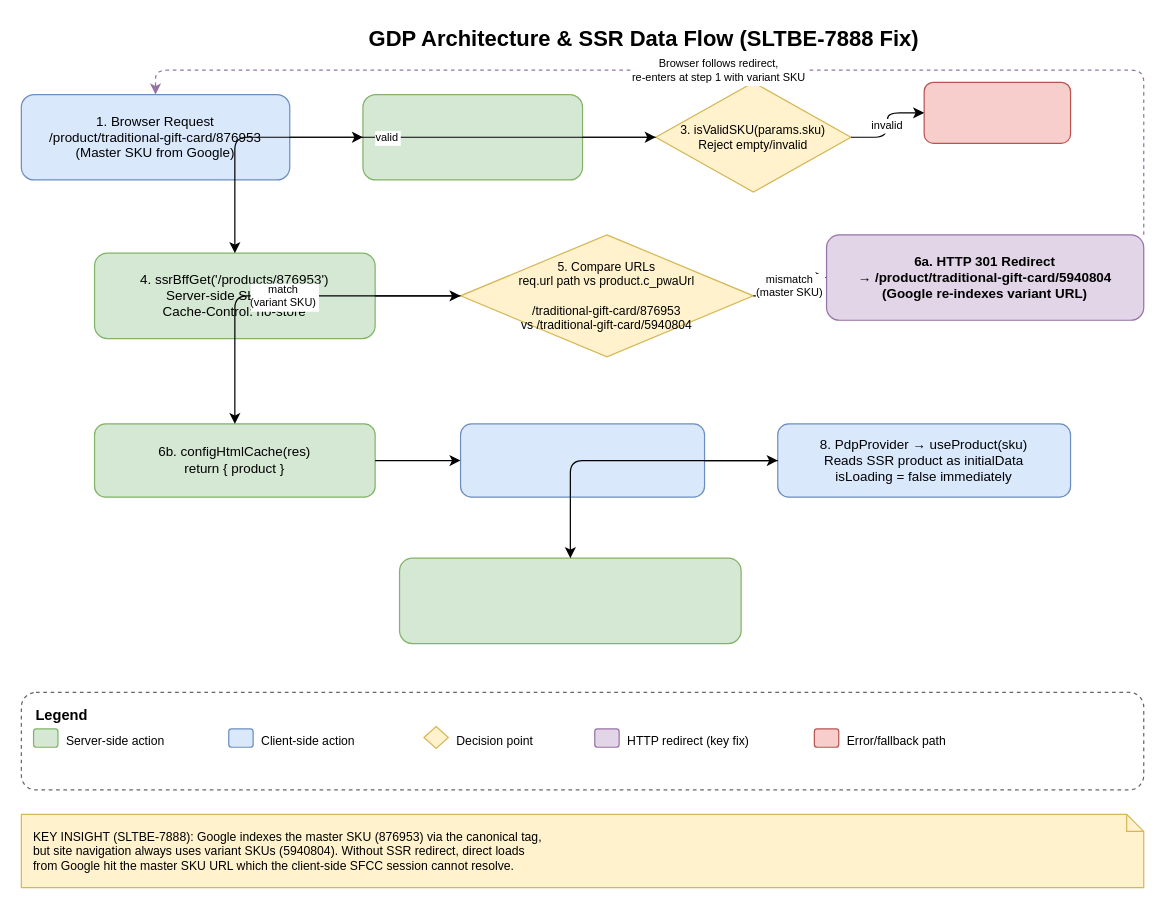
Some shapes in this 1175 by 909 pixel diagram are drawn without their labels. Here are the shapes that lost their labels. From the top down, the centre of each, then its label:
At point (997, 112): "Return {} (client fallback)".
At point (472, 136): "2. SSR getProps() Server-side (Node.js)".
At point (582, 460): "7. SSRProductProvider Passes product to React context".
At point (569, 600): "9. GiftCardBuyBox Renders Amount chips, form fields, Add to Bag button visible".
